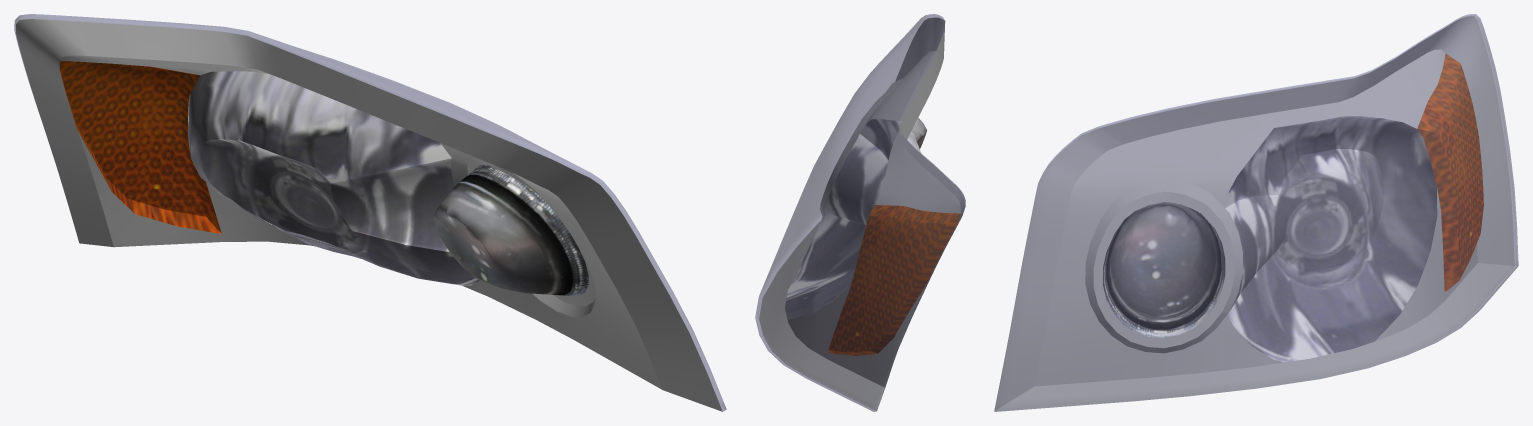
3 renders of one model, left to right at view 1: azimuth 30°, elevation 25°; view 2: azimuth 150°, elevation 25°; view 3: azimuth 270°, elevation 25°, orthographic. The views are drawn at different scales.
Visible parts, largest first — view 1: Y651_061B_L_3_DaS_Y651_061B_L, Y651_061B_L_Y651_061B_L_1_N, Y651_061B_L_Y651_061B_L_4_N, Y651_061B_L_Y651_061B_L_2_N, Y651_061B_L_Y651_061B_L_6_DTaSI; view 2: Y651_061B_L_Y651_061B_L_6_DTaSI, Y651_061B_L_3_DaS_Y651_061B_L, Y651_061B_L_Y651_061B_L_4_N, Y651_061B_L_Y651_061B_L_1_N, Y651_061B_L_Y651_061B_L_2_N; view 3: Y651_061B_L_Y651_061B_L_6_DTaSI, Y651_061B_L_3_DaS_Y651_061B_L, Y651_061B_L_Y651_061B_L_1_N, Y651_061B_L_Y651_061B_L_2_N, Y651_061B_L_Y651_061B_L_4_N.
Boxes of the visible parts, x1=… form: Y651_061B_L_3_DaS_Y651_061B_L: x1=16, y1=19, x2=722, y2=411; Y651_061B_L_Y651_061B_L_1_N: x1=188, y1=71, x2=479, y2=285; Y651_061B_L_Y651_061B_L_4_N: x1=59, y1=60, x2=221, y2=233; Y651_061B_L_Y651_061B_L_2_N: x1=434, y1=165, x2=588, y2=296; Y651_061B_L_Y651_061B_L_6_DTaSI: x1=14, y1=14, x2=726, y2=411; Y651_061B_L_Y651_061B_L_6_DTaSI: x1=755, y1=14, x2=965, y2=411; Y651_061B_L_3_DaS_Y651_061B_L: x1=759, y1=17, x2=965, y2=410; Y651_061B_L_Y651_061B_L_4_N: x1=828, y1=205, x2=960, y2=355; Y651_061B_L_Y651_061B_L_1_N: x1=785, y1=119, x2=921, y2=319; Y651_061B_L_Y651_061B_L_2_N: x1=911, y1=118, x2=927, y2=148; Y651_061B_L_Y651_061B_L_6_DTaSI: x1=994, y1=14, x2=1518, y2=411; Y651_061B_L_3_DaS_Y651_061B_L: x1=994, y1=16, x2=1514, y2=411; Y651_061B_L_Y651_061B_L_1_N: x1=1225, y1=116, x2=1437, y2=362; Y651_061B_L_Y651_061B_L_2_N: x1=1103, y1=202, x2=1225, y2=337; Y651_061B_L_Y651_061B_L_4_N: x1=1417, y1=53, x2=1483, y2=291.
Size of the model in its own units: 35.81 by 23.46 by 47.3.
